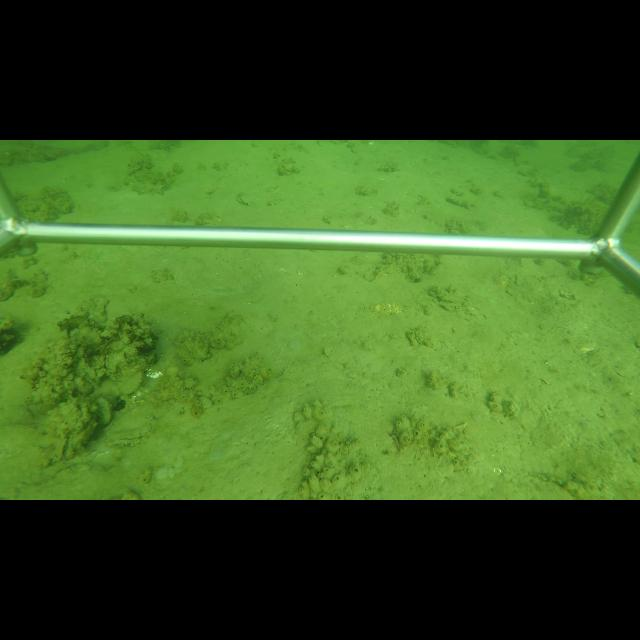Oyster-Closed: (102, 418, 157, 450), (117, 370, 147, 397), (97, 396, 115, 428)
Oyster-Open: (50, 416, 98, 460)
